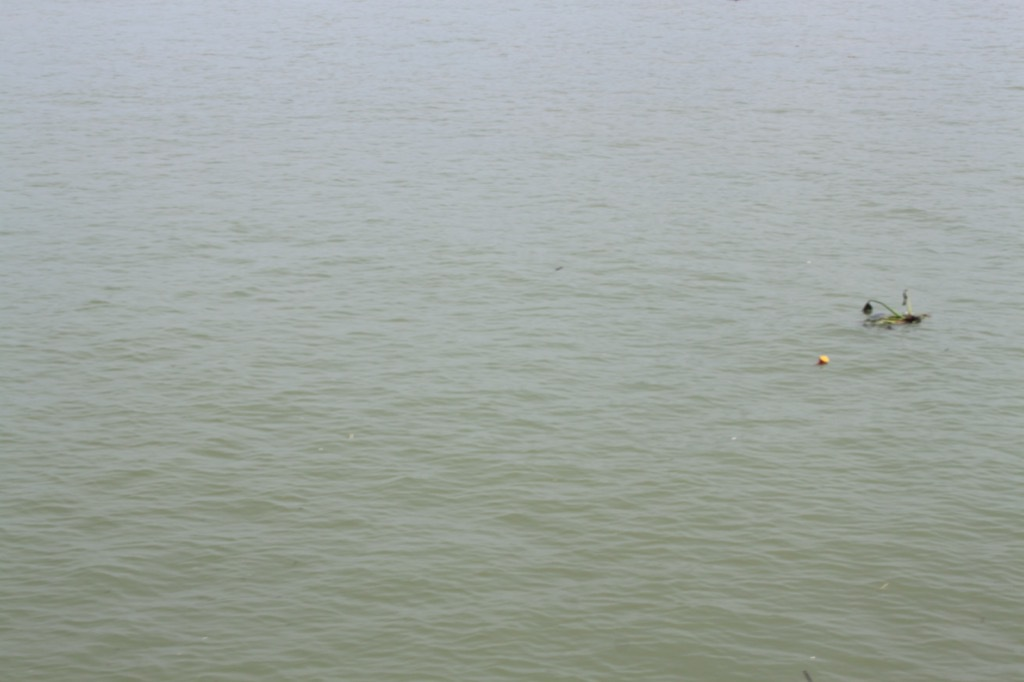organic: (853, 286, 955, 345), (533, 254, 569, 284), (783, 660, 830, 682)
plastic: (808, 349, 835, 372)
